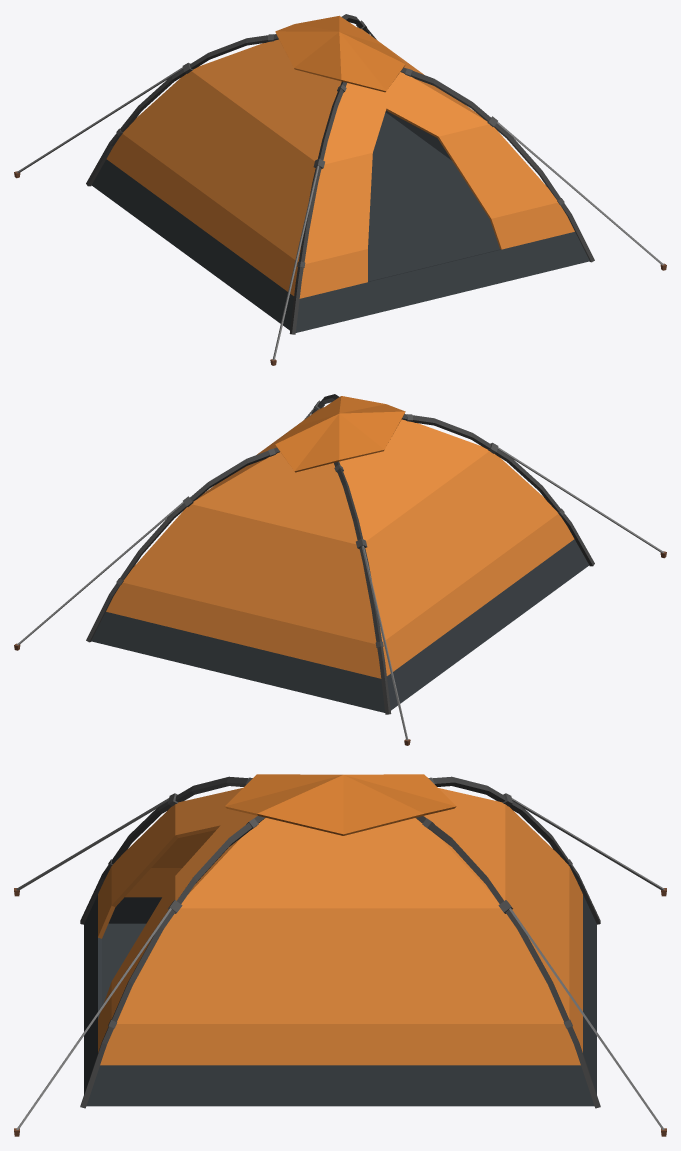
File: Tent_04.fbx
3 views of the same model, one above another, from view 1: azimuth 30°, elevation 25°; view 2: azimuth 150°, elevation 25°; view 3: azimuth 270°, elevation 25° (orthographic). The views are drawn at different scales.
Parts seen in each view (by area): view 1: Tent_04; view 2: Tent_04; view 3: Tent_04.
Boxes of the visible parts, box(x1,y1,x2,y2) form: Tent_04: box(14, 14, 666, 365); Tent_04: box(14, 394, 666, 745); Tent_04: box(14, 774, 666, 1136).
Bounding box in the file's own units: 237 × 110 × 269.
